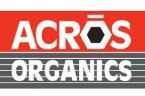AcrosOrganics: (10, 13, 133, 84)
